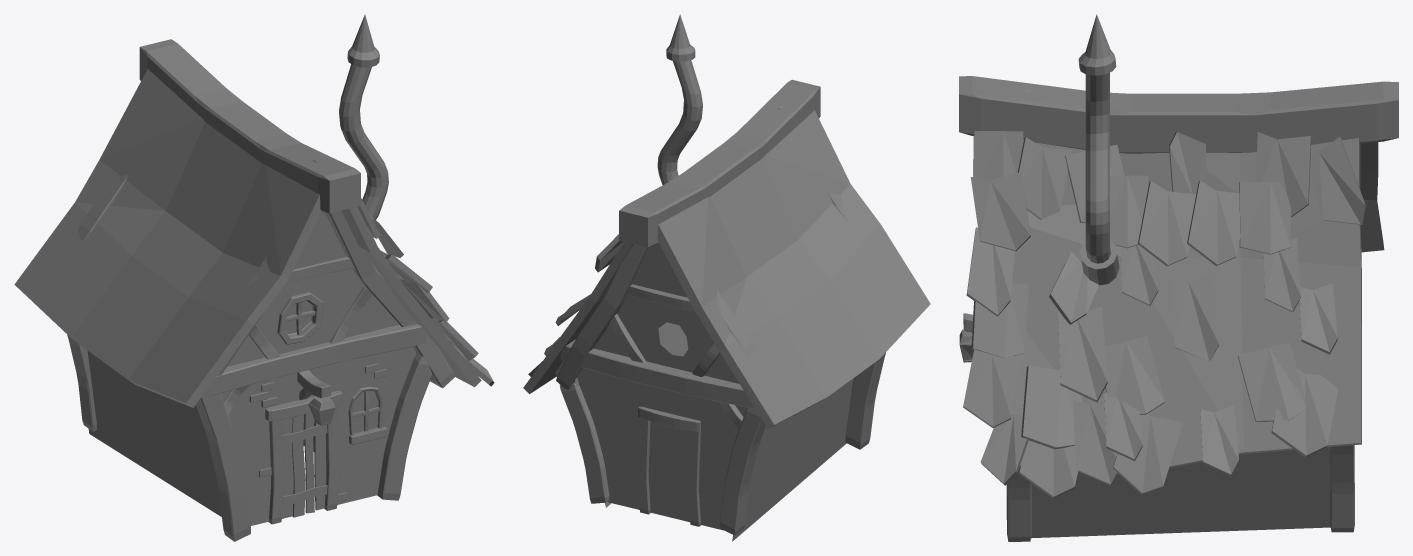
File: test-bajtica.gltf
3 views of the same model, side by side, from view 1: azimuth 30°, elevation 25°; view 2: azimuth 150°, elevation 25°; view 3: azimuth 270°, elevation 25° (orthographic). The views are drawn at different scales.
Parts seen in each view (by area): view 1: Plane.011, Plane.010, Cube.579, Plane.012, Cube.557, Cylinder.010, Cube.555, Cube.556, Cube.558, Plane.013, Plane.016, Cube.565 (+16 smaller); view 2: Plane.011, Plane.015, Cube.579, Plane.012, Cube.569, Cylinder.010, Cube.570, Cube.567, Cube.568, Plane.013, Cube.555, Cube.577 (+7 smaller); view 3: Plane.013, Cube.579, Plane.014, Cylinder.010, Cube.618, Cube.593, Cube.591, Cube.614, Cube.616, Cube.603, Cube.611, Cube.613 (+25 smaller).
Boxes of the visible parts, left/top/right/bottom form: Plane.011: left=14, top=69, right=321, bottom=407; Plane.010: left=220, top=211, right=416, bottom=525; Cube.579: left=139, top=39, right=360, bottom=213; Plane.012: left=87, top=350, right=221, bottom=516; Cube.557: left=201, top=324, right=425, bottom=397; Cylinder.010: left=339, top=14, right=388, bottom=219; Cube.555: left=196, top=393, right=250, bottom=541; Cube.556: left=377, top=354, right=432, bottom=500; Cube.558: left=325, top=210, right=455, bottom=388; Plane.013: left=342, top=206, right=481, bottom=387; Plane.016: left=277, top=292, right=323, bottom=344; Cube.565: left=268, top=419, right=283, bottom=524; Plane.011: left=657, top=110, right=930, bottom=428; Plane.015: left=555, top=243, right=747, bottom=530; Cube.579: left=619, top=79, right=820, bottom=247; Plane.012: left=732, top=378, right=854, bottom=541; Cube.569: left=560, top=339, right=754, bottom=408; Cylinder.010: left=657, top=14, right=702, bottom=184; Cube.570: left=556, top=244, right=649, bottom=389; Cube.567: left=719, top=407, right=765, bottom=535; Cube.568: left=559, top=382, right=609, bottom=503; Plane.013: left=523, top=242, right=633, bottom=393; Cube.555: left=845, top=352, right=885, bottom=449; Cube.577: left=688, top=430, right=700, bottom=526; Plane.013: left=1012, top=138, right=1361, bottom=473; Cube.579: left=959, top=76, right=1398, bottom=153; Plane.014: left=1031, top=447, right=1330, bottom=538; Cylinder.010: left=1078, top=14, right=1119, bottom=285; Cube.618: left=1238, top=342, right=1306, bottom=421; Cube.593: left=1021, top=365, right=1082, bottom=449; Cube.591: left=1058, top=306, right=1107, bottom=402; Cube.614: left=970, top=172, right=1030, bottom=251; Cube.616: left=1239, top=181, right=1291, bottom=254; Cube.603: left=1138, top=181, right=1196, bottom=266; Cube.611: left=1187, top=180, right=1240, bottom=265; Cube.613: left=1171, top=272, right=1218, bottom=361.
Size of the model in its own units: 5.47 by 7.52 by 5.63.
Materials: 1 (1 with a texture image).
